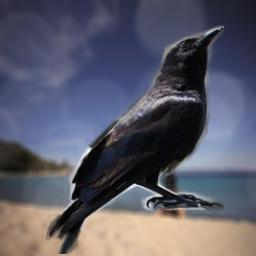Crow: (46, 25, 224, 254)
